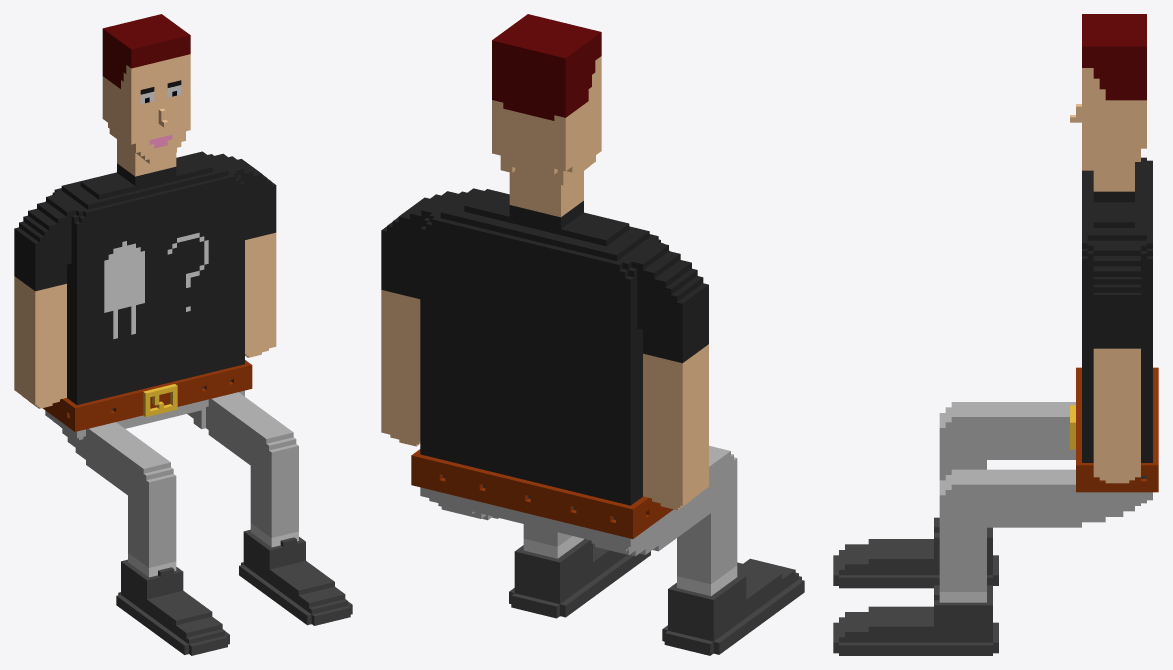
Rendered from player-sitting-1.gltf.
3 renders of one model, left to right at view 1: azimuth 30°, elevation 25°; view 2: azimuth 150°, elevation 25°; view 3: azimuth 270°, elevation 25°, orthographic. The views are drawn at different scales.
Visible parts, largest first — view 1: Node; view 2: Node; view 3: Node.
Boxes of the visible parts, <box> form: Node: <box>14,14,352,655</box>; Node: <box>381,14,804,655</box>; Node: <box>833,14,1158,655</box>.
Size of the model in its own units: 5.3 by 10.8 by 5.5.
Materials: 1 (1 with a texture image).
